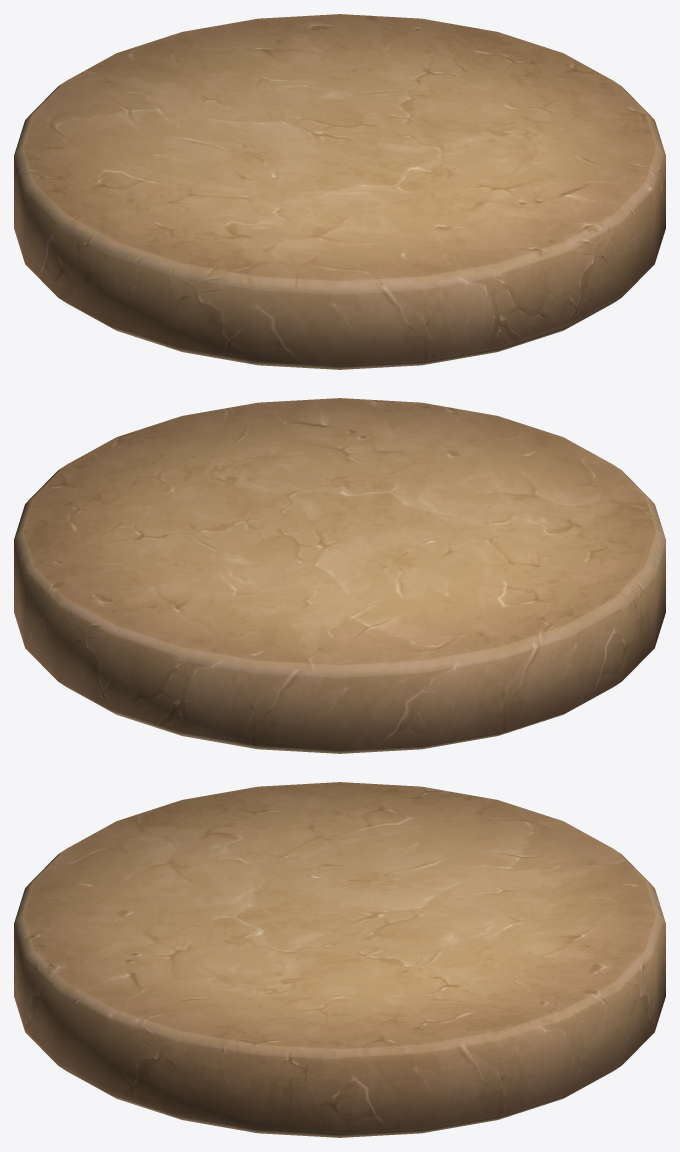
File: DE_House_Mod_Part_34.fbx
3 renders of one model, top to bottom at view 1: azimuth 30°, elevation 25°; view 2: azimuth 150°, elevation 25°; view 3: azimuth 270°, elevation 25°, orthographic.
Visible parts, largest first — view 1: DE_House_Mod_Part_34; view 2: DE_House_Mod_Part_34; view 3: DE_House_Mod_Part_34.
Part boxes in pixels (x1,y1,x2,y2): DE_House_Mod_Part_34: (14, 14, 665, 369); DE_House_Mod_Part_34: (14, 398, 665, 753); DE_House_Mod_Part_34: (14, 782, 665, 1137).
Size of the model in its own units: 8.92 by 1.34 by 8.92.
